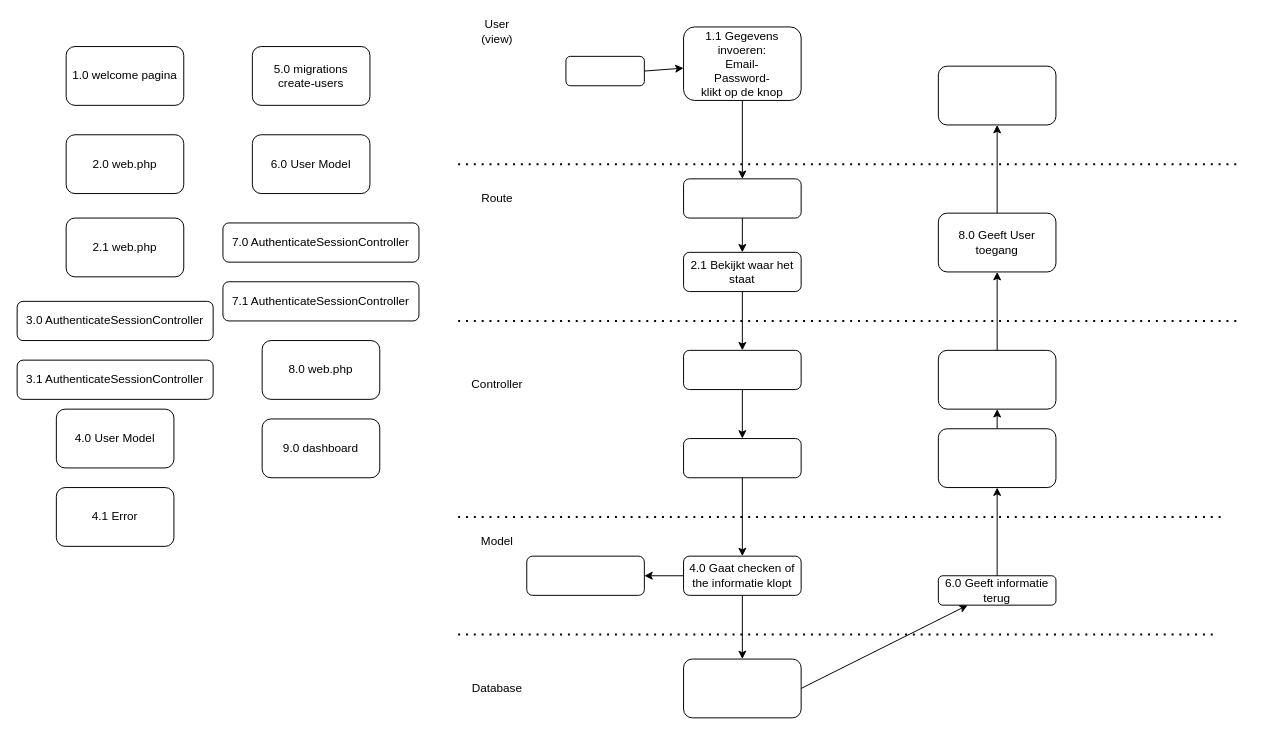
Some shapes in this 1261 by 735 pixel diagram are drawn without their labels. Each missing label, with the box of its shape:
1.0 User not logged in: (565, 55, 644, 86)
2.0 Bekijkt wat het nodig heeft: (683, 178, 801, 218)
3.0 Gaat checken of die functie heeft: (683, 349, 801, 390)
3.1 Gaat het functie uitvoeren: (683, 438, 801, 478)
4.1 Klopt niet: verkeerde informatie: (526, 555, 644, 595)
5.0 Het klopt en verstuurd informatie: (683, 658, 801, 718)
7.0 Verify: (937, 428, 1056, 488)
7.1 Sessie aanmaken: (937, 349, 1056, 409)
9.0 User is ingelogd: (937, 65, 1056, 125)
